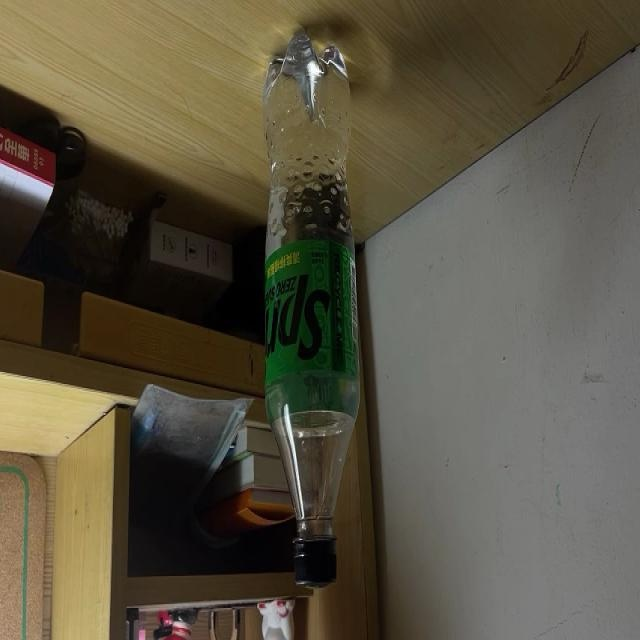Sprite: (263, 23, 361, 594)
